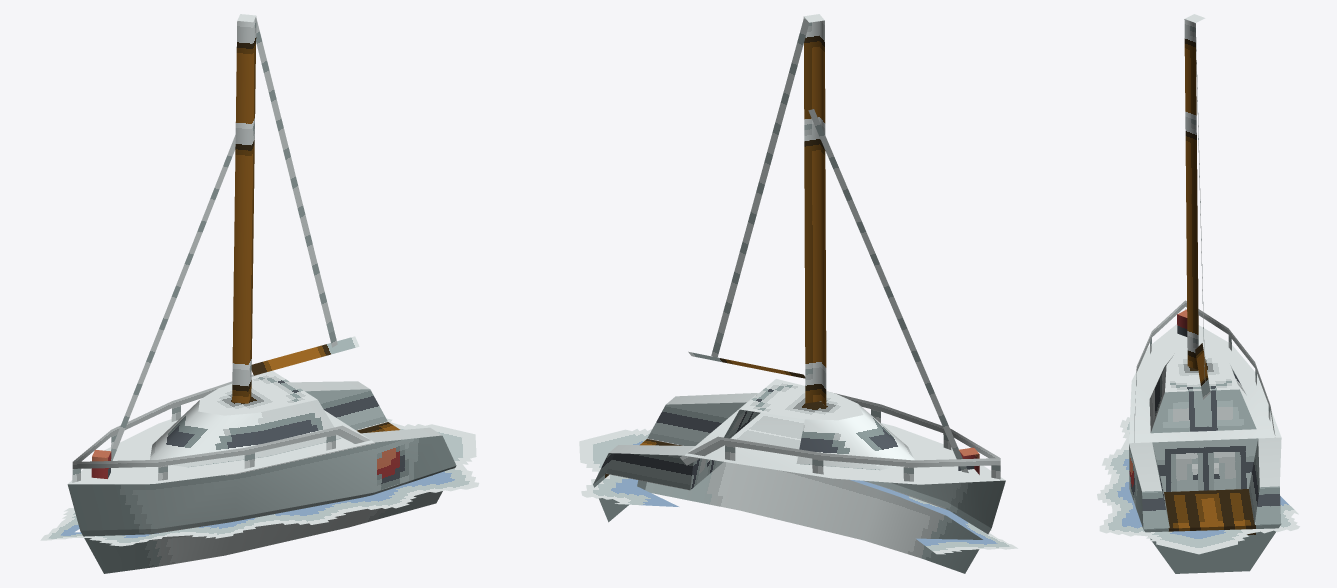
Rendered from Docked_Sailboat_mtl.glb.
3 views of the same model, side by side, from view 1: azimuth 30°, elevation 25°; view 2: azimuth 150°, elevation 25°; view 3: azimuth 270°, elevation 25° (orthographic). The views are drawn at different scales.
Parts seen in each view (by area): view 1: Docked_Sailboat_mtl; view 2: Docked_Sailboat_mtl; view 3: Docked_Sailboat_mtl.
Part boxes in pixels (box(x1,y1,x2,y2)): Docked_Sailboat_mtl: box(40, 14, 479, 573); Docked_Sailboat_mtl: box(579, 14, 1017, 573); Docked_Sailboat_mtl: box(1097, 14, 1299, 573).
Size of the model in its own units: 98.87 by 98.79 by 46.87.
Materials: 3 (3 with a texture image).
